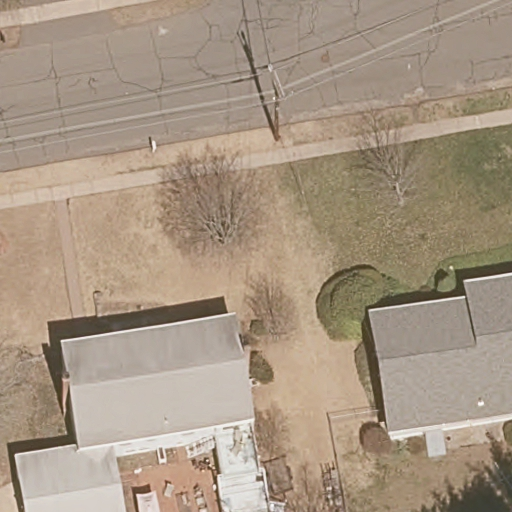DT: (267, 62, 292, 142)
